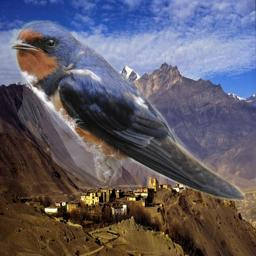Swallow: (8, 20, 246, 201)
